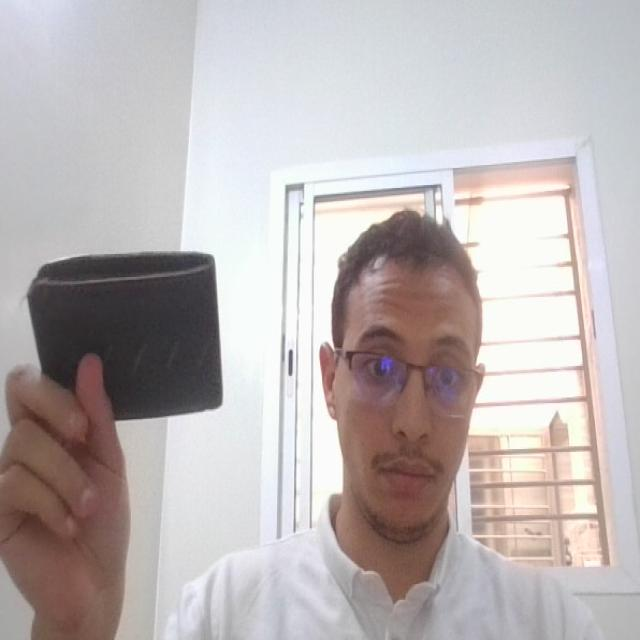wallet: (24, 241, 234, 444)
